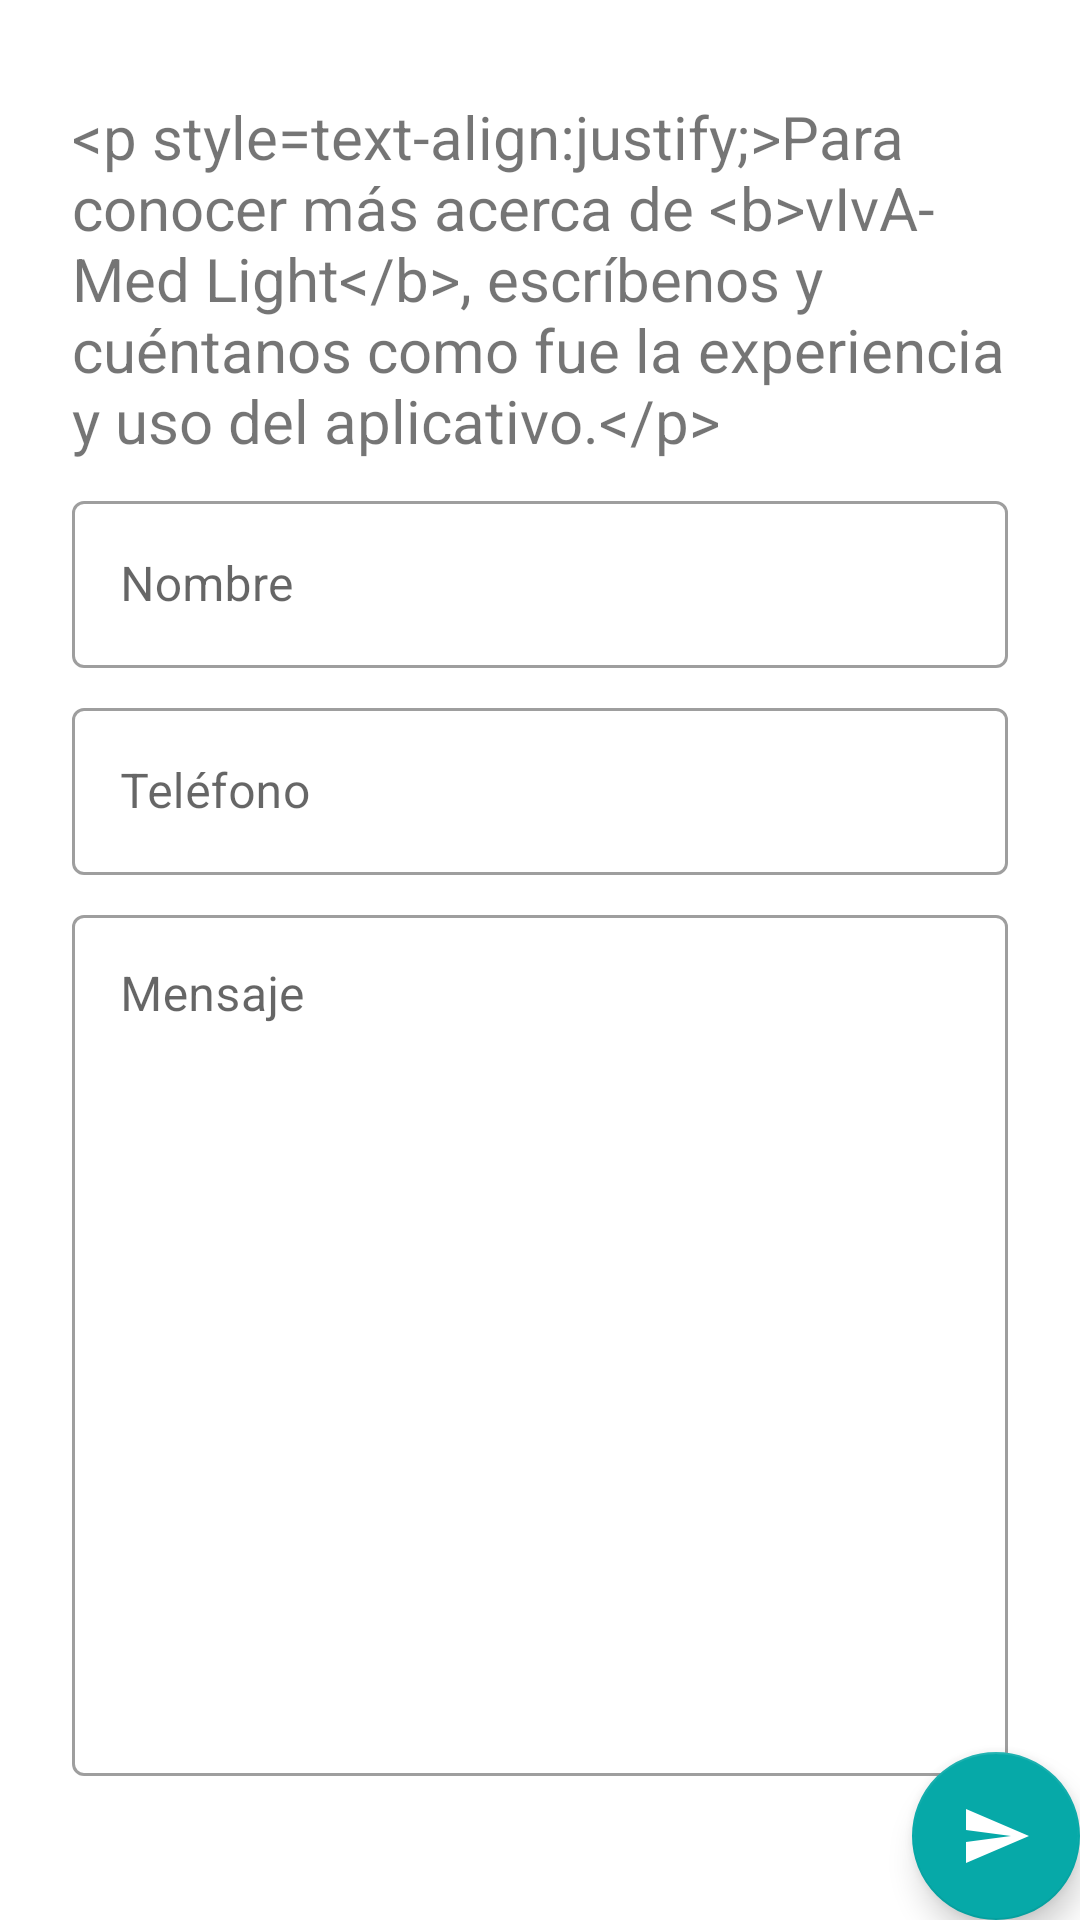

Icon bounding boxes for this 1080px x 1920px phone screenshot, format (x1, y1, x2, y2):
send: (912, 1752, 1080, 1920)
